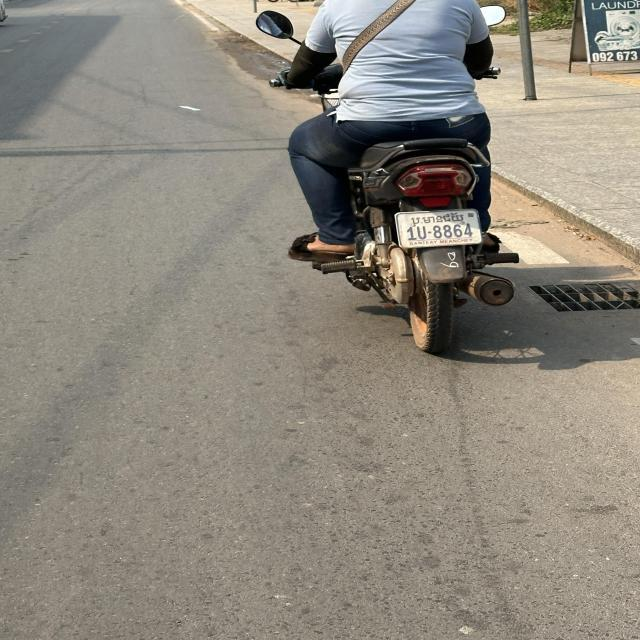Banteay_Meanchey: (411, 212, 465, 224)
